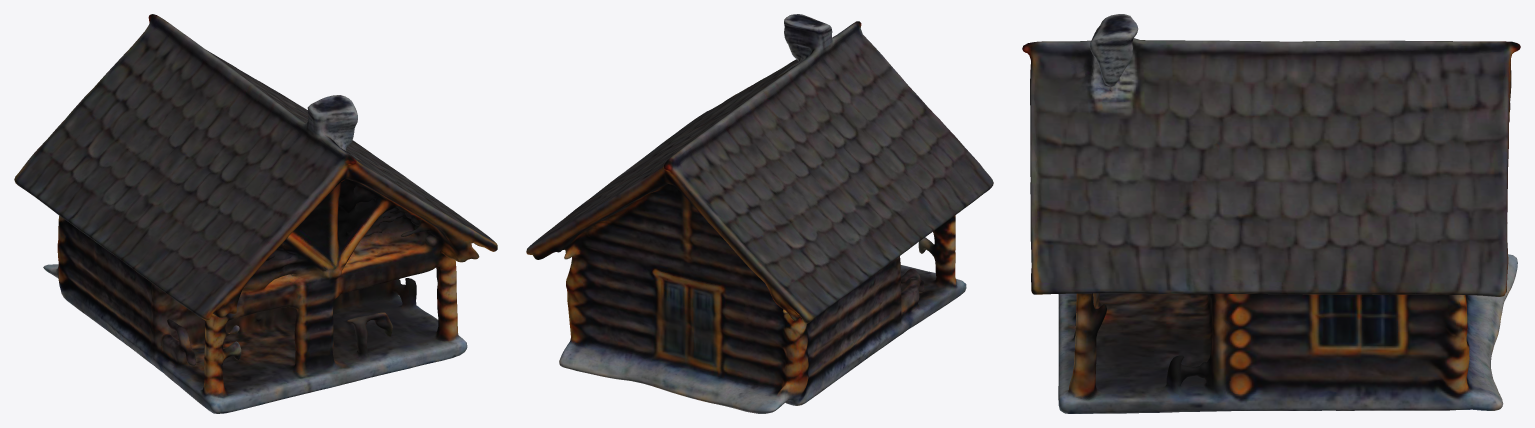
Rendered from 366e3ca1ae35_Cabin.fbx.
The picture shows the model from 3 angles, left to right: view 1: azimuth 30°, elevation 25°; view 2: azimuth 150°, elevation 25°; view 3: azimuth 270°, elevation 25°; orthographic projection. The views are drawn at different scales.
Visible parts, largest first — view 1: high_poly; view 2: high_poly; view 3: high_poly.
Boxes of the visible parts, x1,y1,x2,y2 form: high_poly: [14, 14, 497, 413]; high_poly: [526, 14, 993, 413]; high_poly: [1022, 14, 1520, 413].
Size of the model in its own units: 85.57 by 73.31 by 100.
